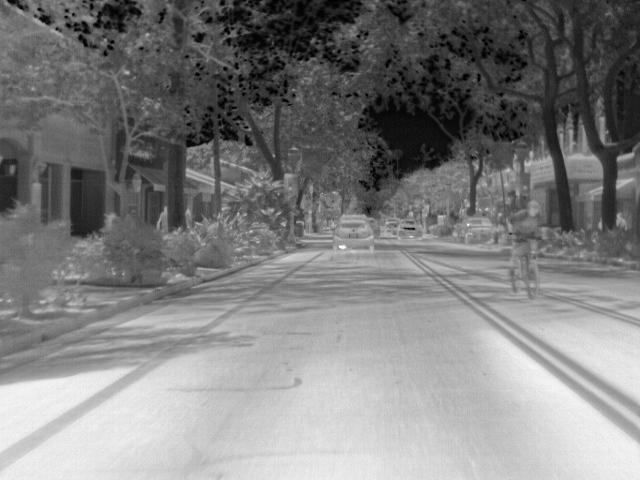car: (450, 214, 497, 246), (329, 222, 376, 253), (395, 221, 427, 244), (380, 221, 401, 240), (339, 212, 362, 223)
person: (504, 198, 543, 274), (155, 202, 171, 234), (613, 211, 630, 232)
